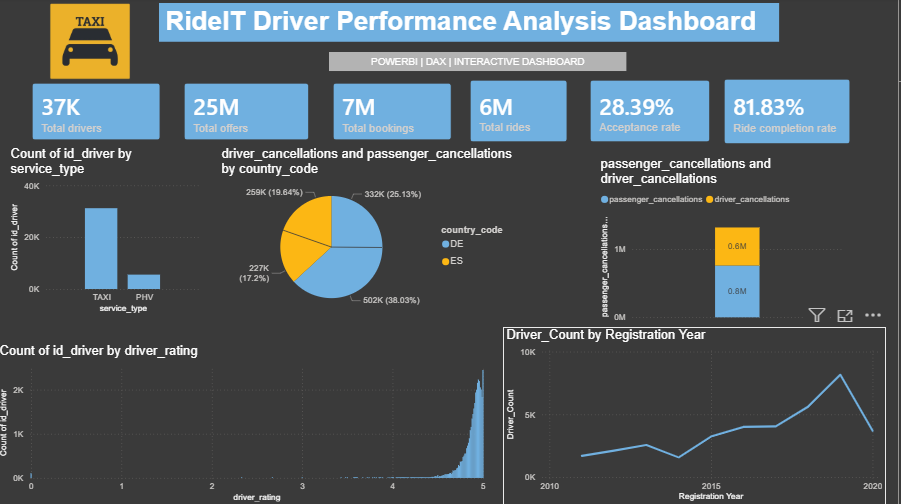

The page's visual inventory and layout, read from the dashboard file:
{"tool":"powerbi","page":{"name":"over_view","canvas":[1280,720],"ordinal":1},"visuals":[{"type":"cardVisual","fields":{"Data":["Measure.Total drivers"]},"box":[34.6,103.7,216,115.2],"z":0},{"type":"cardVisual","fields":{"Data":["Measure.Total offers"]},"box":[250.3,103,211.3,115.4],"z":1000},{"type":"cardVisual","fields":{"Data":["Measure.Total bookings"]},"box":[461.6,103,202.4,115.4],"z":2000},{"type":"cardVisual","fields":{"Data":["Measure.Total rides"]},"box":[655.1,99.4,172.2,122.5],"z":3000},{"type":"cardVisual","fields":{"Data":["Measure.Acceptance rate"]},"box":[825.5,99.4,204.2,122.5],"z":4000},{"type":"cardVisual","fields":{"Data":["Measure.Ride completion rate"]},"box":[1015.5,97.6,213,126],"z":5000},{"type":"pieChart","fields":{"Category":["rideit_drivers.country_code"],"Y":["Measure.driver_cancellations","Measure.passenger_cancellations"]},"box":[315.4,210.2,424.8,244.8],"z":6000},{"type":"columnChart","fields":{"Category":["rideit_drivers.service_type"],"Y":["CountNonNull(rideit_drivers.id_driver)"]},"box":[15.8,210.2,279.4,241.9],"z":7000},{"type":"columnChart","fields":{"Y":["Measure.passenger_cancellations","Measure.driver_cancellations"]},"box":[852.5,224.6,355.7,241.9],"z":8000},{"type":"clusteredColumnChart","fields":{"Category":["rideit_drivers.driver_rating"],"Y":["CountNonNull(rideit_drivers.id_driver)"]},"box":[0,489.6,699.8,230.4],"z":9000},{"type":"lineChart","fields":{"Y":["Measure.Driver_Count"],"Category":["rideit_drivers.Registration Year"]},"box":[719.6,467.3,543.5,252.3],"z":10000},{"type":"textbox","box":[231.8,7.4,879.9,54.6],"z":11000},{"type":"image","box":[0,0,267.2,122.5],"z":12000},{"type":"textbox","box":[472.4,76.8,422.2,26.6],"z":13000}]}

Visuals, with their boxes in screenshot pixels (x1, y1, x2, y2), scaled from the page's 1280x720 canvas onto the 901x504 screenshot:
cardVisual - Measure.Total drivers: [left=24, top=73, right=176, bottom=153]
cardVisual - Measure.Total offers: [left=176, top=72, right=325, bottom=153]
cardVisual - Measure.Total bookings: [left=325, top=72, right=467, bottom=153]
cardVisual - Measure.Total rides: [left=461, top=70, right=582, bottom=155]
cardVisual - Measure.Acceptance rate: [left=581, top=70, right=725, bottom=155]
cardVisual - Measure.Ride completion rate: [left=715, top=68, right=865, bottom=157]
pieChart - rideit_drivers.country_code x Measure.driver_cancellations: [left=222, top=147, right=521, bottom=318]
columnChart - rideit_drivers.service_type x CountNonNull(rideit_drivers.id_driver): [left=11, top=147, right=208, bottom=316]
columnChart - Measure.passenger_cancellations x Measure.driver_cancellations: [left=600, top=157, right=850, bottom=327]
clusteredColumnChart - rideit_drivers.driver_rating x CountNonNull(rideit_drivers.id_driver): [left=0, top=343, right=493, bottom=503]
lineChart - Measure.Driver_Count x rideit_drivers.Registration Year: [left=507, top=327, right=889, bottom=503]
textbox: [left=163, top=5, right=783, bottom=43]
image: [left=0, top=0, right=188, bottom=86]
textbox: [left=333, top=54, right=630, bottom=72]
